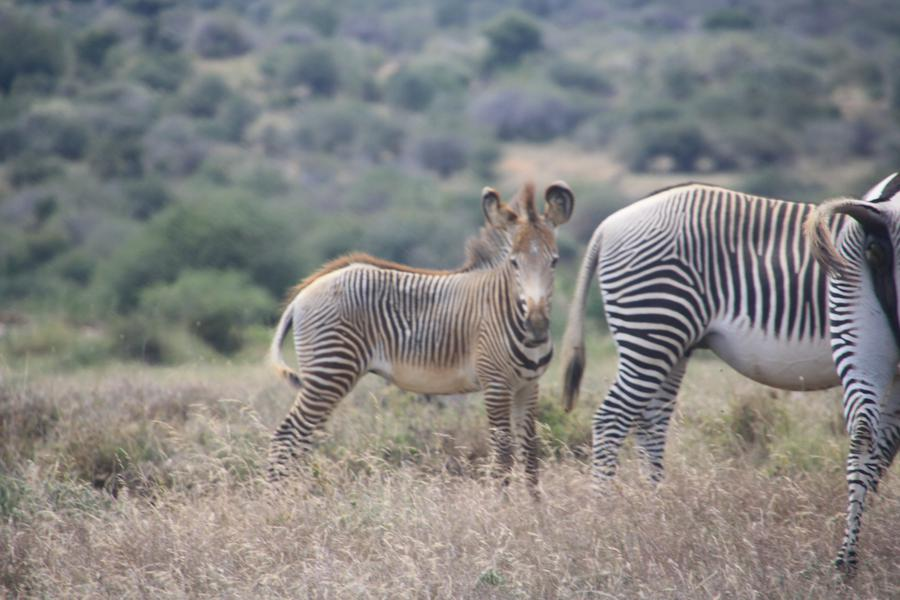zebra_grevys: (289, 243, 526, 383)
